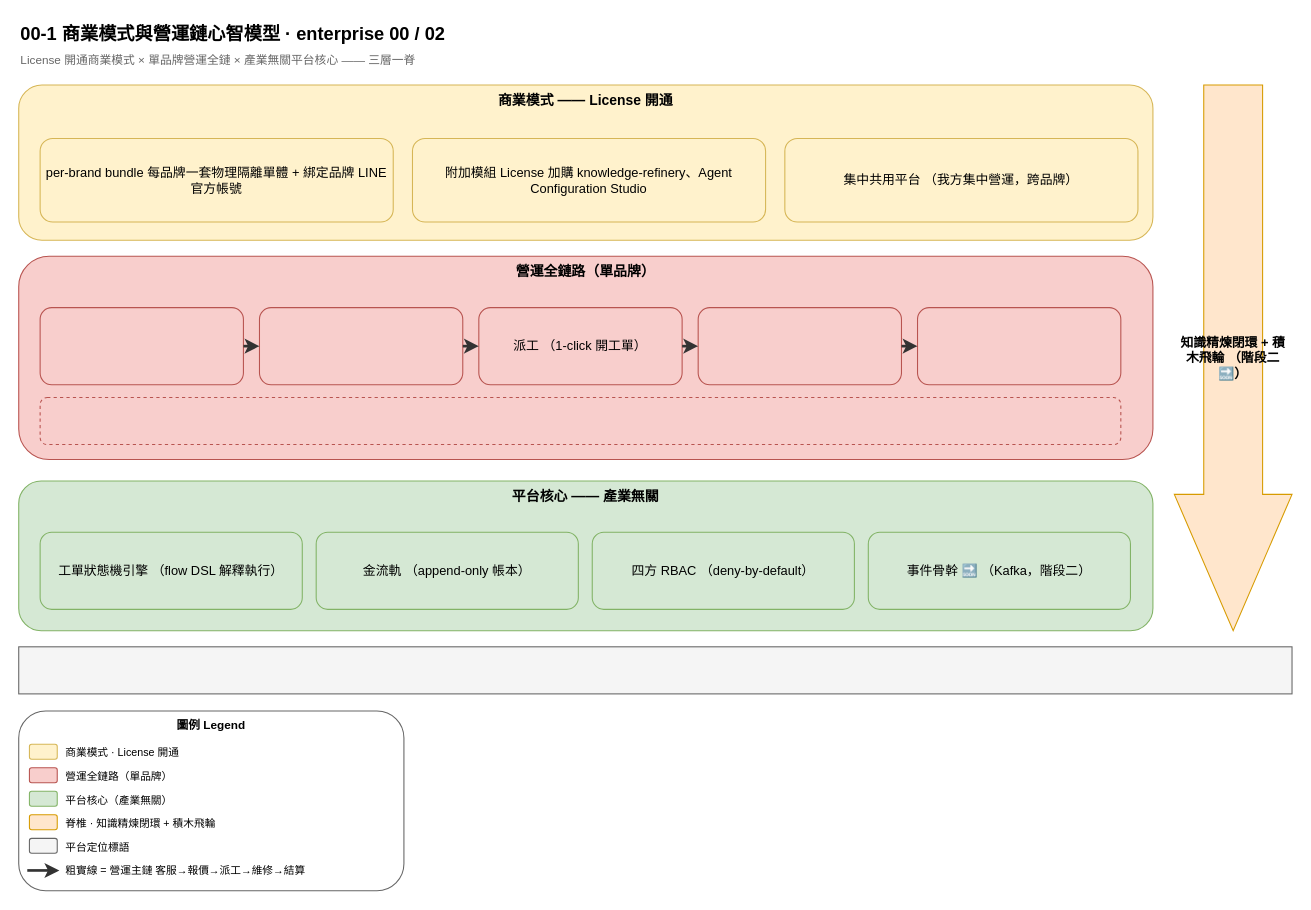
Image size: 1311x910. Some labels were removed from this diagram. Here are the shapes that lost their labels. From the top down, the centre of each, then its label:
the point at 141,346: 客服 （AI 對話 → 問題卡）
the point at 360,346: 報價 （客戶 LIFF 確認）
the point at 799,346: 維修 （現場複核 / 存證）
the point at 1018,346: 結算 （計費 / 對帳 / 佣金）
the point at 580,420: 報價先行：客人確認後才派工；急件 4 類可事後補審（retrospective）
the point at 655,670: 通用工單維運核心 + 產業配置層（Vertical Pack）—— 藍領營運的商業邏輯編譯器
